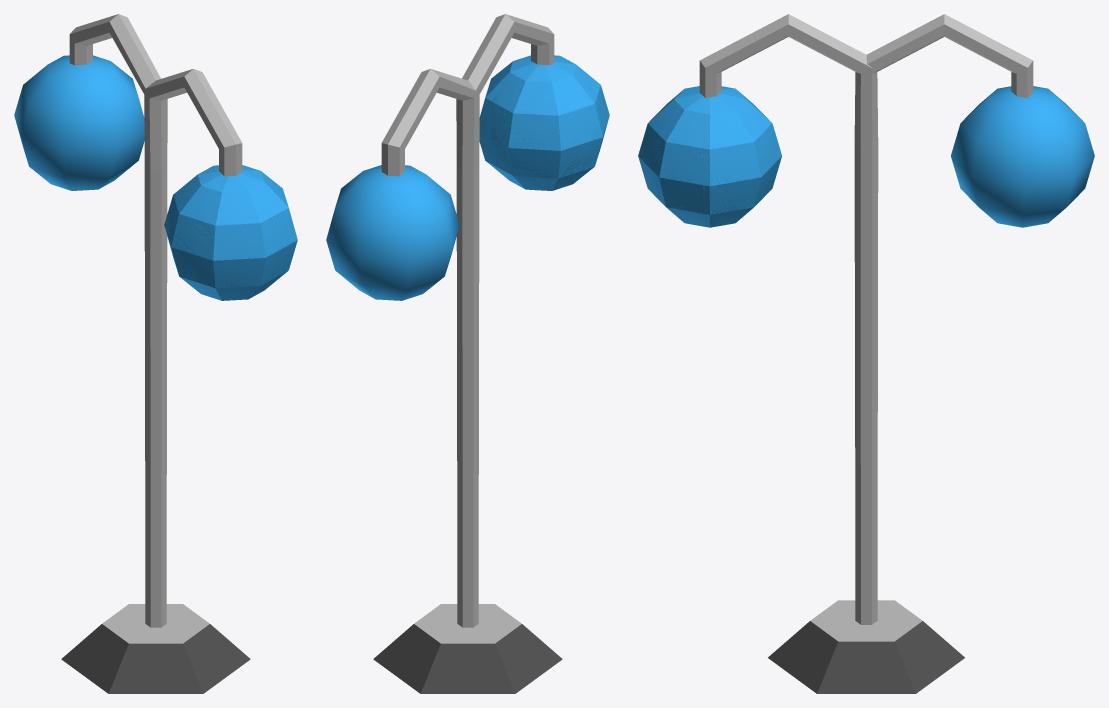
Rendered from luz.fbx.
3 renders of one model, left to right at view 1: azimuth 30°, elevation 25°; view 2: azimuth 150°, elevation 25°; view 3: azimuth 270°, elevation 25°, orthographic. The views are drawn at different scales.
Parts seen in each view (by area): view 1: Sphere; view 2: Sphere; view 3: Sphere.
Boxes of the visible parts, x1,y1,x2,y2 form: Sphere: [14, 14, 297, 693]; Sphere: [326, 14, 609, 693]; Sphere: [638, 14, 1094, 693].
Size of the model in its own units: 70.55 by 293 by 188.
